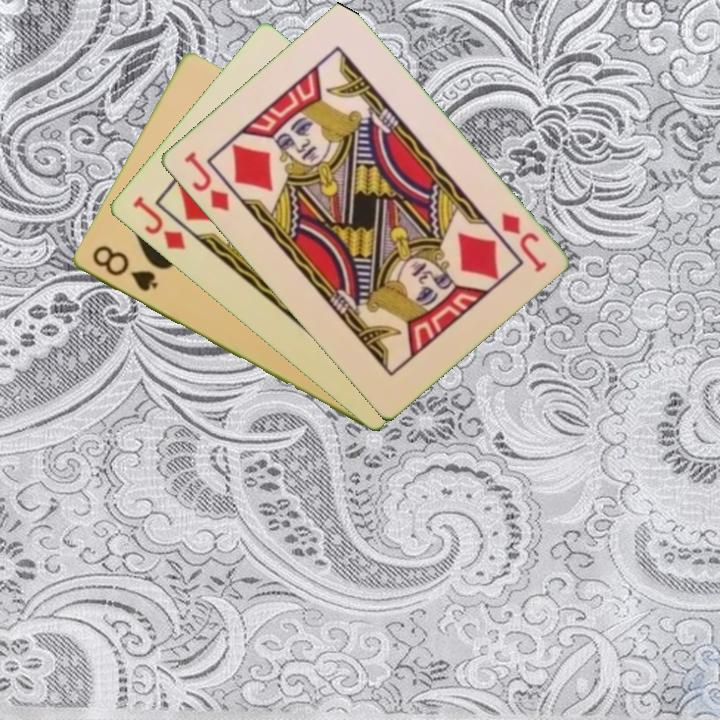8s: (88, 242, 161, 295)
Jd: (128, 192, 188, 253), (179, 148, 232, 215), (497, 209, 549, 275)
